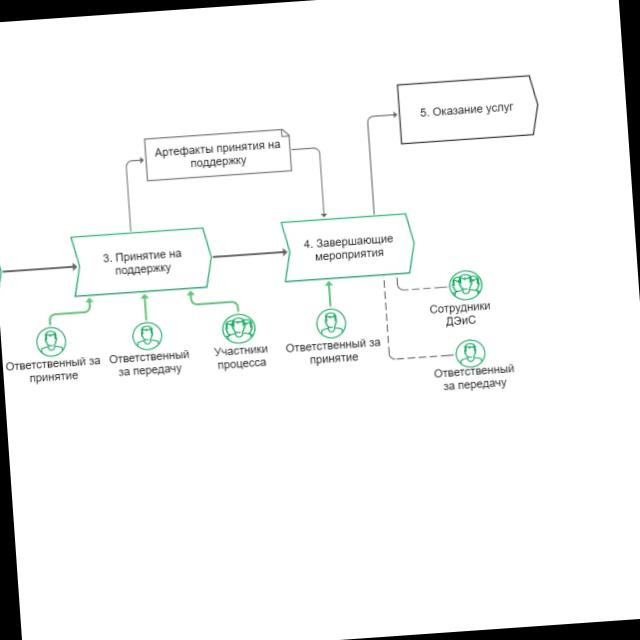arrow: (364, 110, 404, 215), (210, 246, 288, 263), (0, 260, 78, 276)
rectangle: (69, 225, 214, 299), (394, 72, 540, 144), (278, 210, 418, 283)
text_region: (153, 138, 283, 174), (4, 352, 103, 387), (282, 334, 383, 368), (107, 346, 192, 380), (432, 363, 518, 395), (426, 295, 494, 329), (210, 339, 270, 371)
